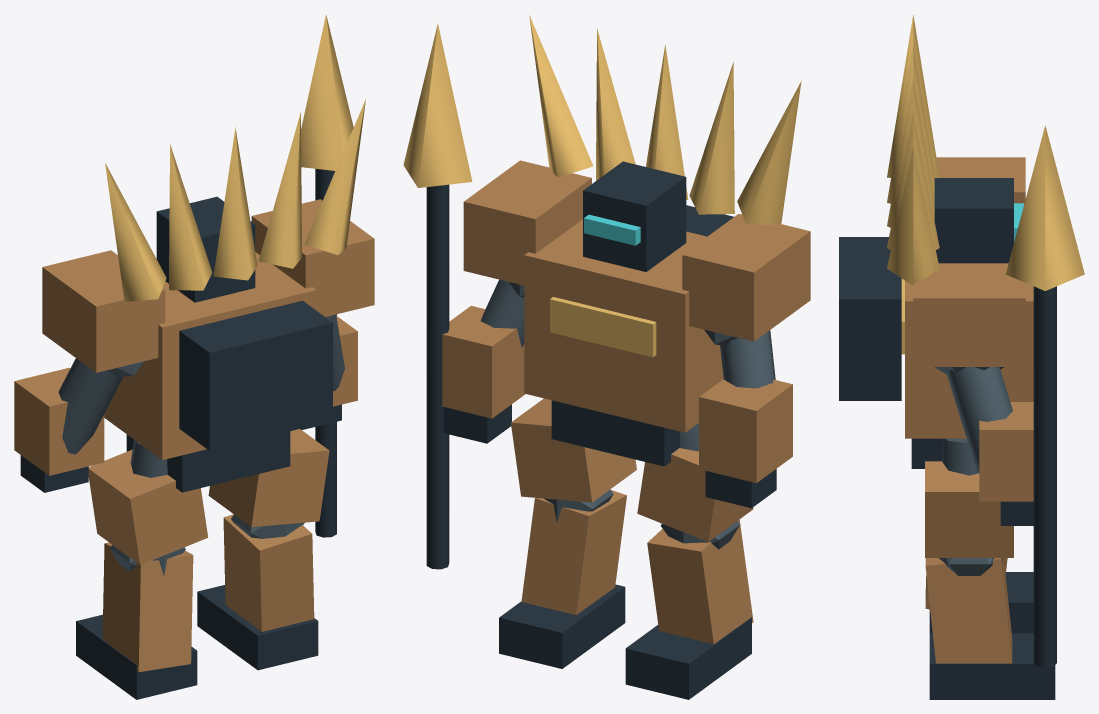
Rendered from frame-vlad.glb.
3 renders of one model, left to right at view 1: azimuth 30°, elevation 25°; view 2: azimuth 150°, elevation 25°; view 3: azimuth 270°, elevation 25°, orthographic. The views are drawn at different scales.
Parts seen in each view (by area): view 1: frame-vlad; view 2: frame-vlad; view 3: frame-vlad.
Part boxes in pixels (<box>): frame-vlad: <box>14,14,374,699</box>; frame-vlad: <box>403,15,810,699</box>; frame-vlad: <box>839,15,1084,699</box>.
Size of the model in its own units: 1.24 by 2.03 by 0.745.
